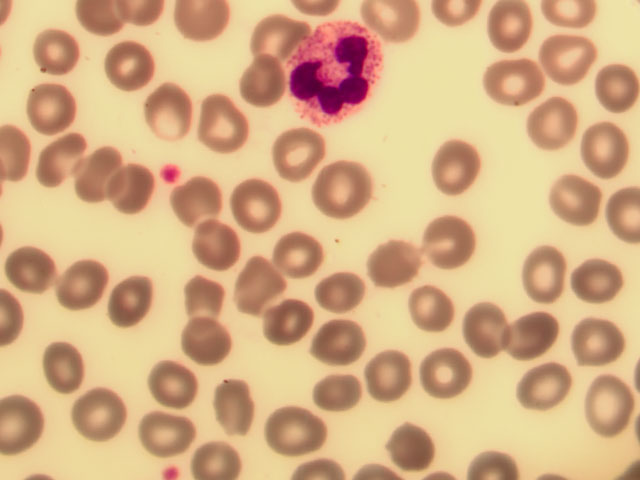Platelets: (157, 161, 183, 185), (159, 462, 176, 480)
RBC: (31, 27, 83, 78), (29, 81, 81, 132), (34, 125, 86, 176), (71, 144, 123, 195), (100, 164, 152, 215), (61, 262, 113, 313), (103, 274, 155, 325), (40, 336, 92, 387), (76, 389, 128, 440), (144, 363, 196, 414), (170, 322, 222, 373), (175, 267, 227, 318), (186, 227, 238, 278), (173, 182, 225, 233), (230, 174, 282, 225), (276, 130, 328, 181), (199, 102, 251, 153), (156, 93, 208, 144), (105, 49, 157, 100), (233, 54, 285, 105), (246, 13, 298, 64), (369, 2, 421, 53), (546, 26, 598, 77), (475, 55, 527, 106), (519, 98, 571, 149), (588, 64, 640, 115), (577, 121, 629, 172), (549, 175, 601, 226), (433, 149, 485, 200), (319, 167, 371, 218), (271, 229, 323, 280), (233, 261, 285, 312), (268, 304, 320, 355), (302, 273, 354, 324), (370, 239, 422, 290), (416, 214, 468, 265), (401, 282, 453, 333), (365, 344, 417, 395), (310, 312, 362, 363), (312, 364, 364, 415), (266, 408, 318, 459), (219, 378, 271, 429), (424, 348, 476, 399), (461, 303, 513, 354), (505, 307, 557, 358), (566, 316, 618, 367), (569, 258, 621, 309), (525, 246, 577, 297), (578, 374, 630, 425), (516, 362, 568, 413), (381, 418, 433, 469), (1, 245, 52, 296), (486, 1, 538, 51)
WBC: (290, 21, 386, 124)
